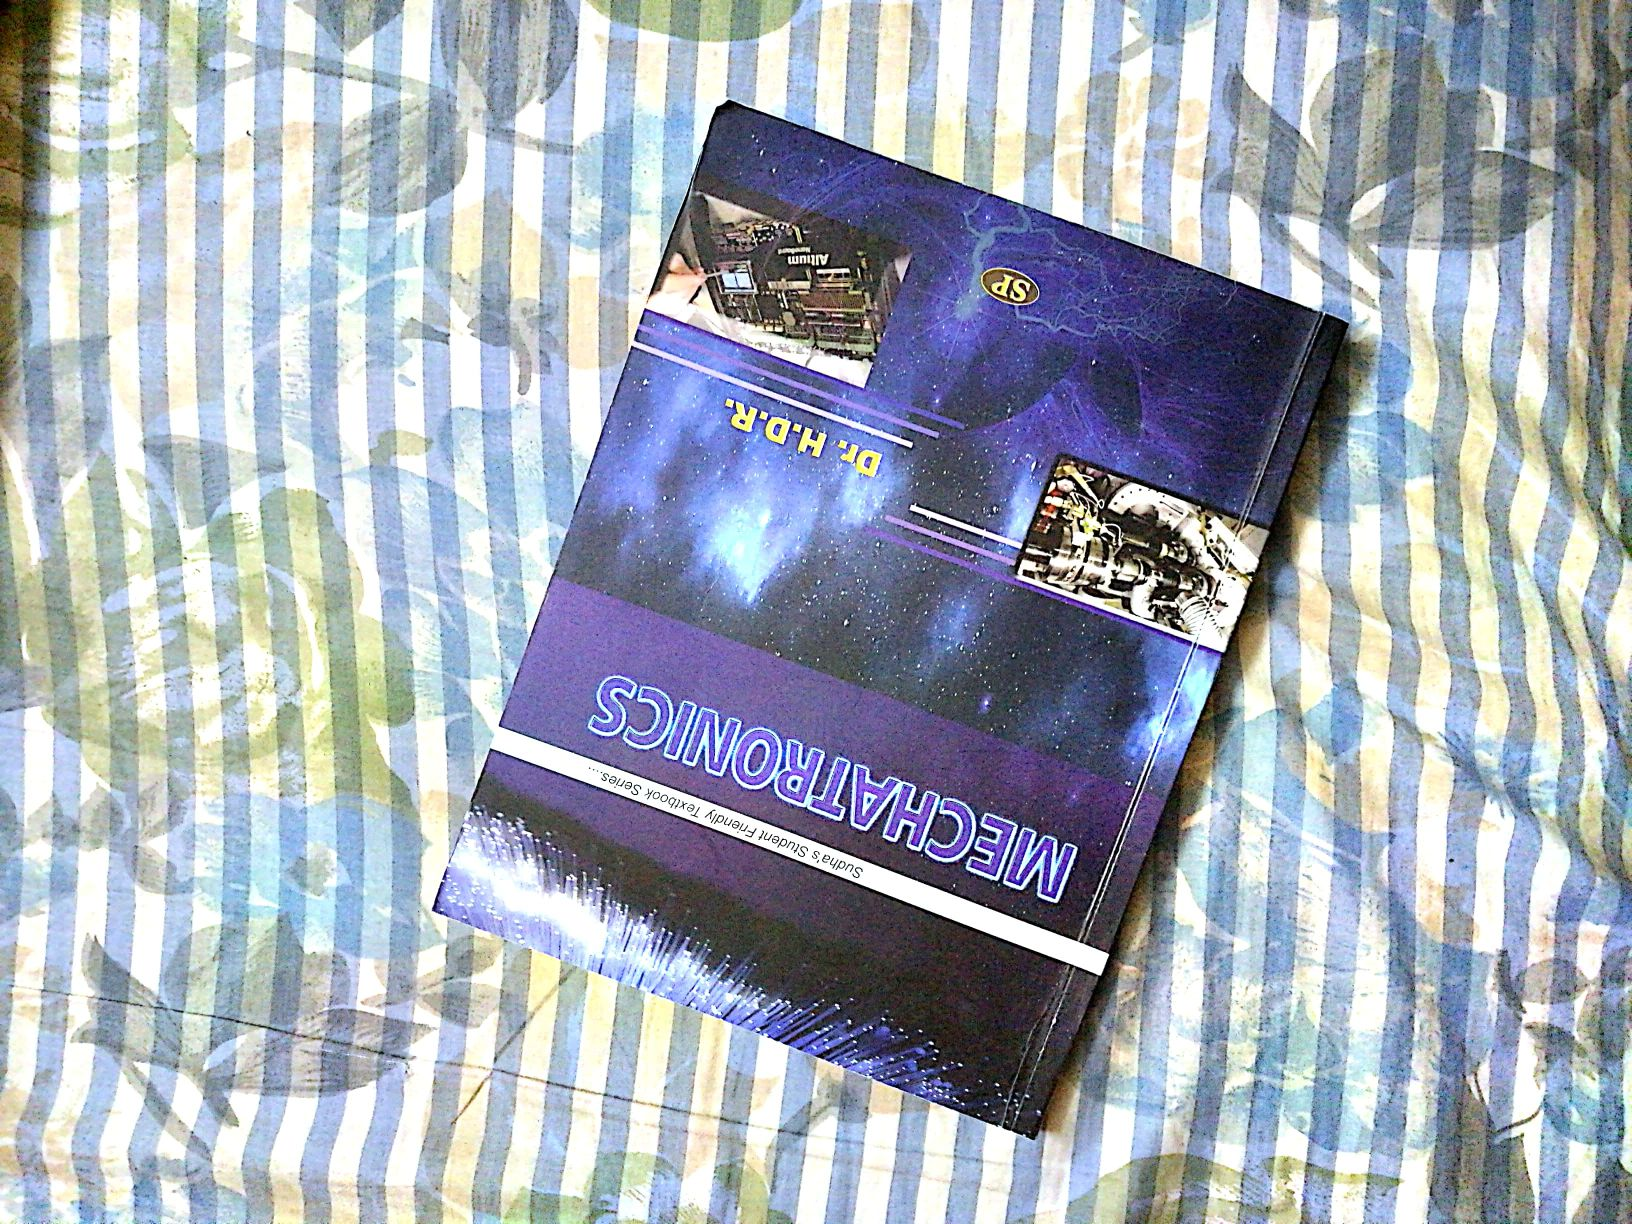mechatronics: (421, 138, 1297, 1110)
